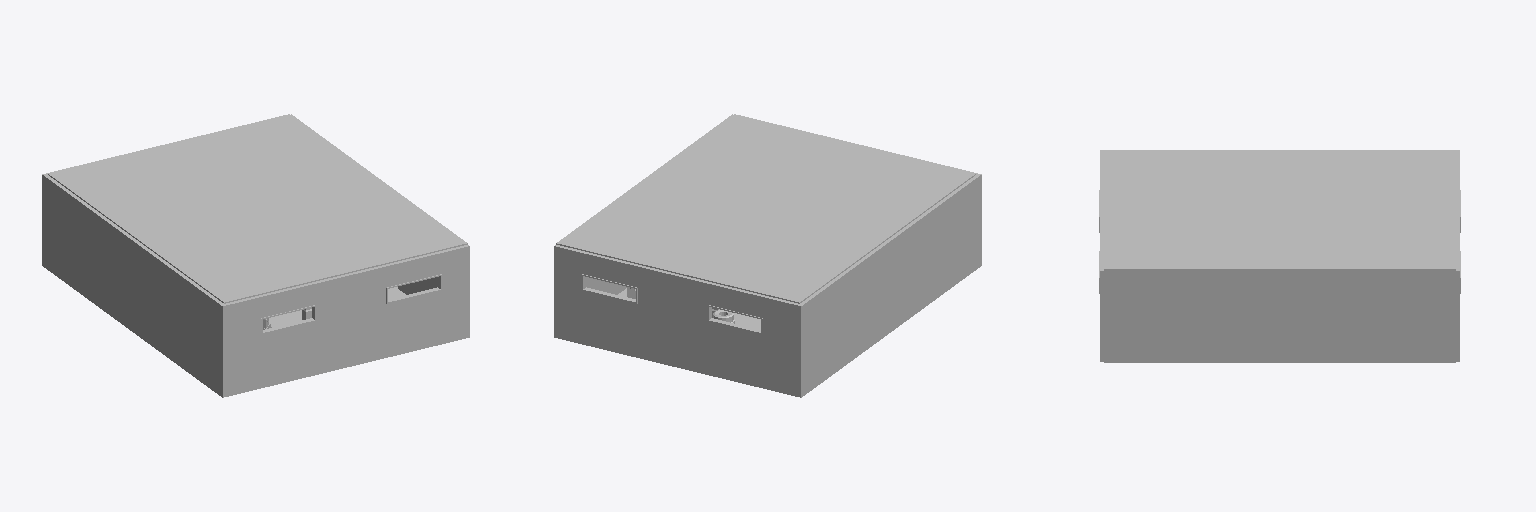
File: garage_new2.obj
3 views of the same model, side by side, from view 1: azimuth 30°, elevation 25°; view 2: azimuth 150°, elevation 25°; view 3: azimuth 270°, elevation 25° (orthographic).
Parts seen in each view (by area): view 1: Floor, Wall, Windows; view 2: Floor, Wall, Windows; view 3: Floor, Wall, Door.
Boxes of the visible parts, <box> form: Floor: <box>48,114,467,303</box>; Wall: <box>42,114,469,397</box>; Windows: <box>261,274,441,334</box>; Floor: <box>556,114,975,303</box>; Wall: <box>554,114,981,397</box>; Windows: <box>582,274,762,334</box>; Floor: <box>1104,150,1455,270</box>; Wall: <box>1100,150,1459,361</box>; Door: <box>1236,307,1318,361</box>.
Bounding box in the file's own units: 365 × 133 × 464.